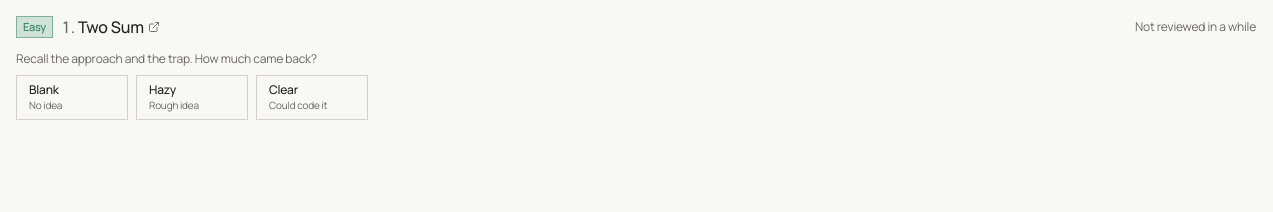
Test case: RecallCheckCard › records Blank as a miss straight away, with no second question
Click the button "Blank No idea" at (72, 98), box [16,75,128,120]
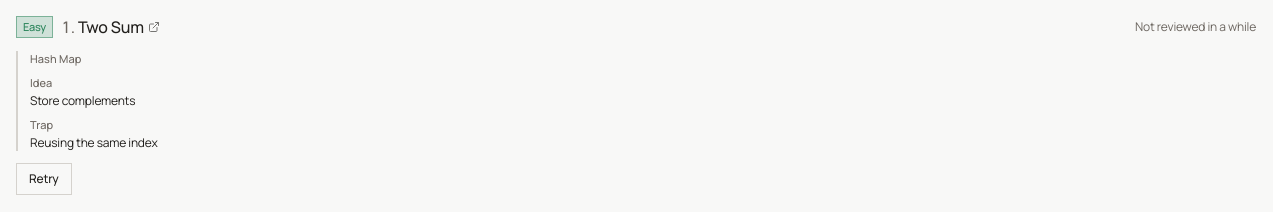
Result: the text "Store complements" is shown at [30,92,135,109]
